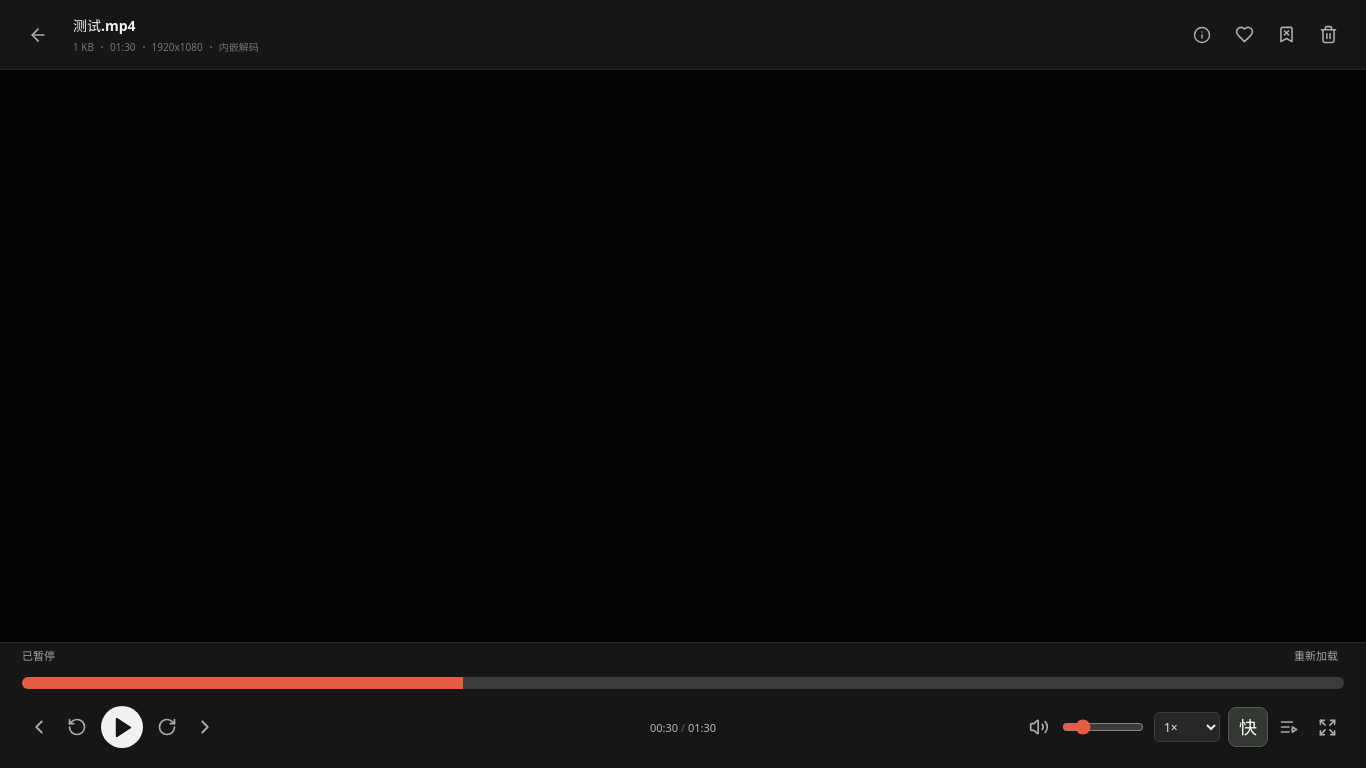
Test case: original player UI with embedded engine › keeps audio and subtitle controls out of the player footer in all decode states
expect the text "已暂停" is shown: met, box 22,648 -> 55,663
Click the button named "全屏": [1327, 727] box 1310,710 -> 1344,744
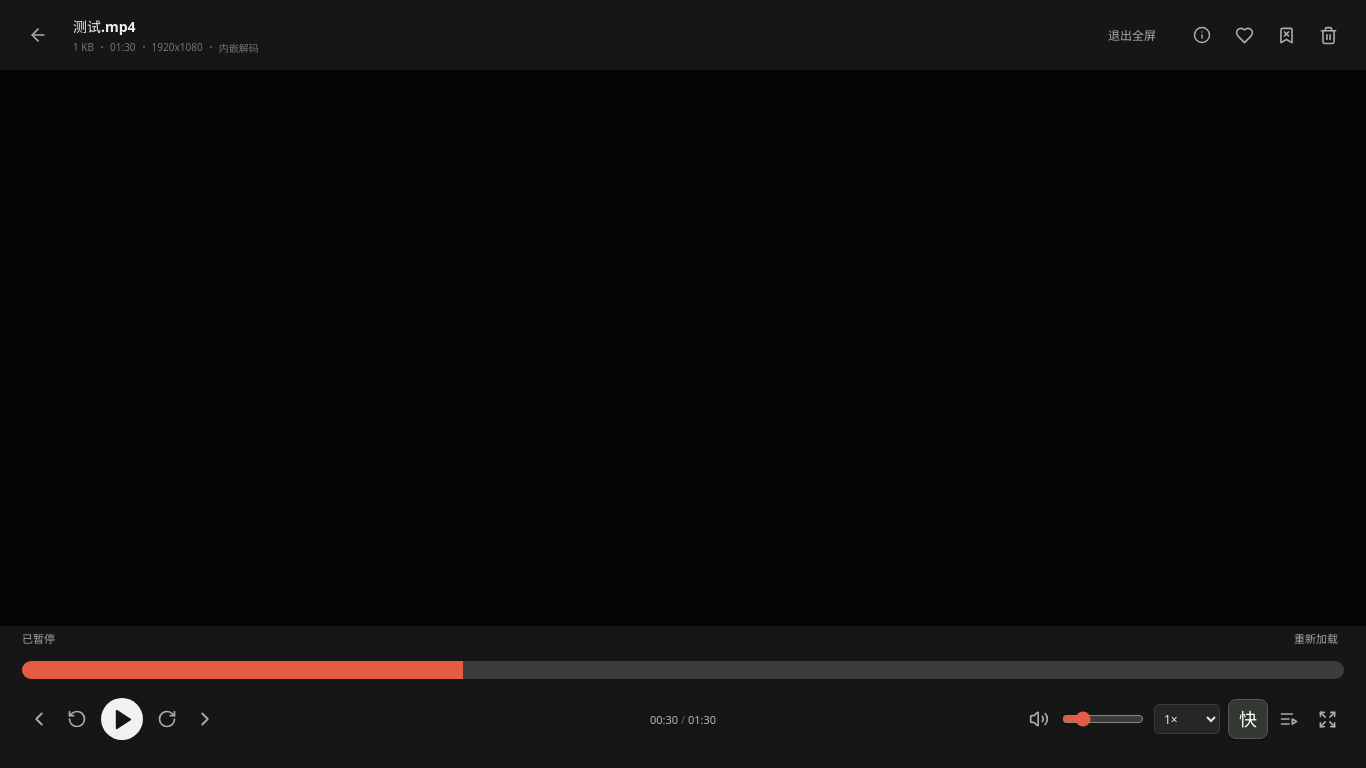
expect the number of buttons "退出全屏" is 2: met, box 1086,17 -> 1178,53; 1310,702 -> 1344,736
